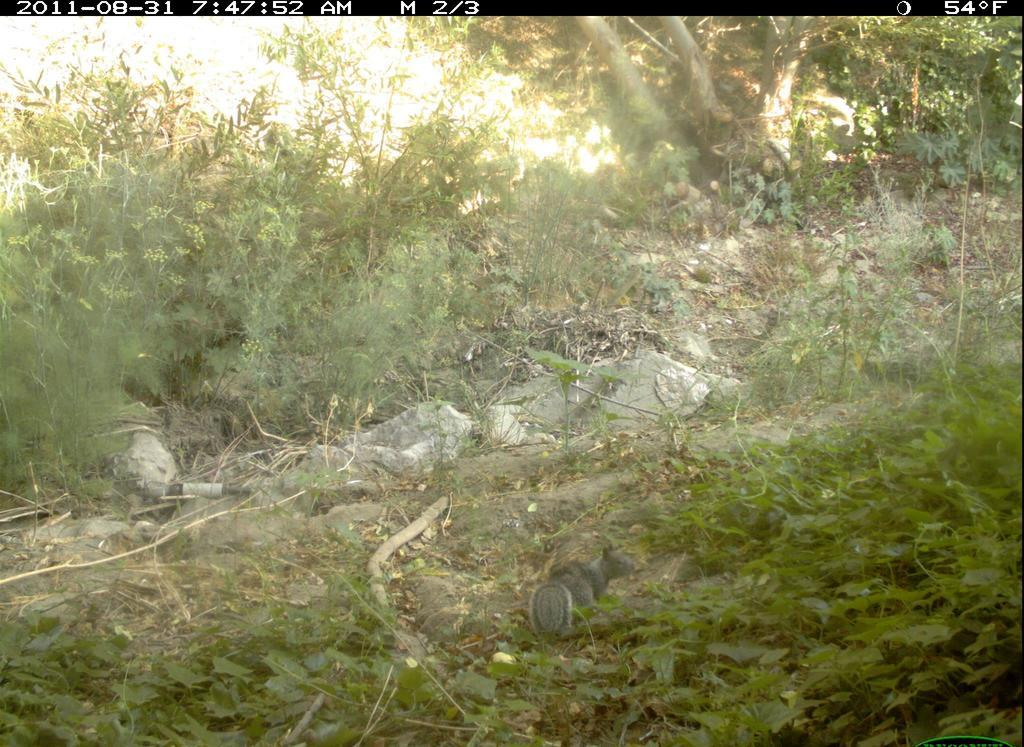squirrel: (523, 527, 657, 648)
